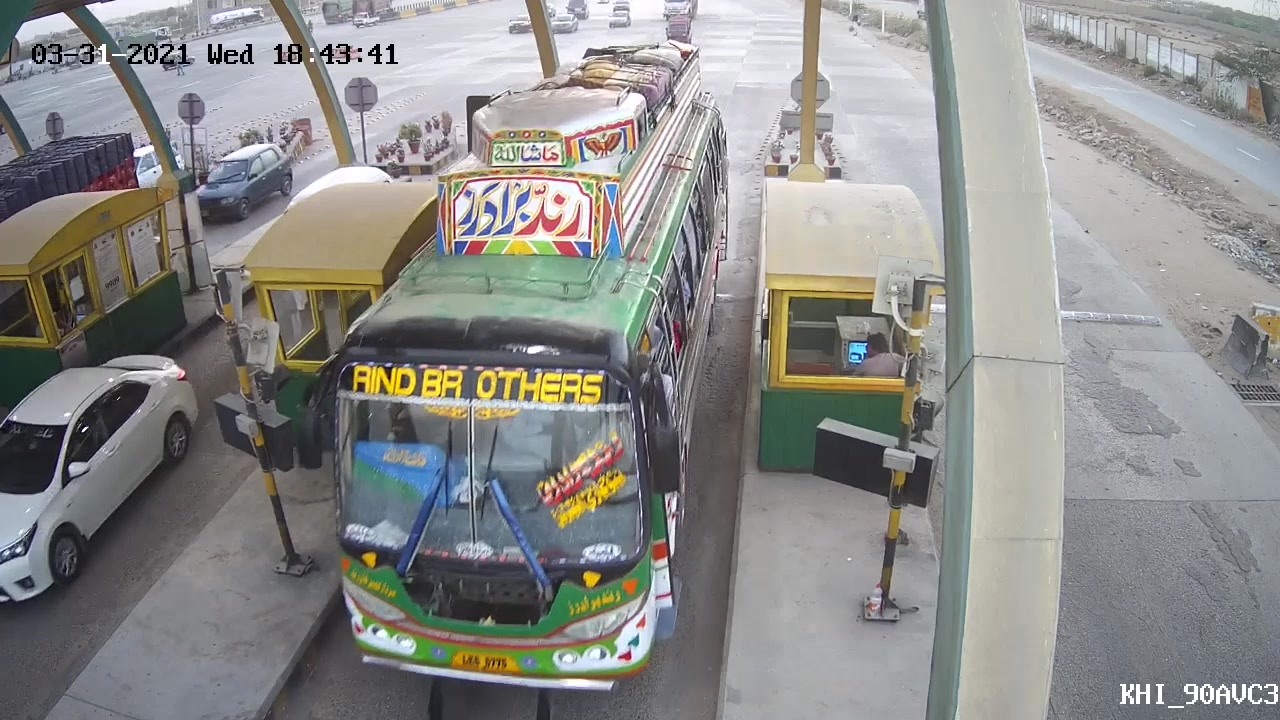F4: (323, 37, 744, 695)
